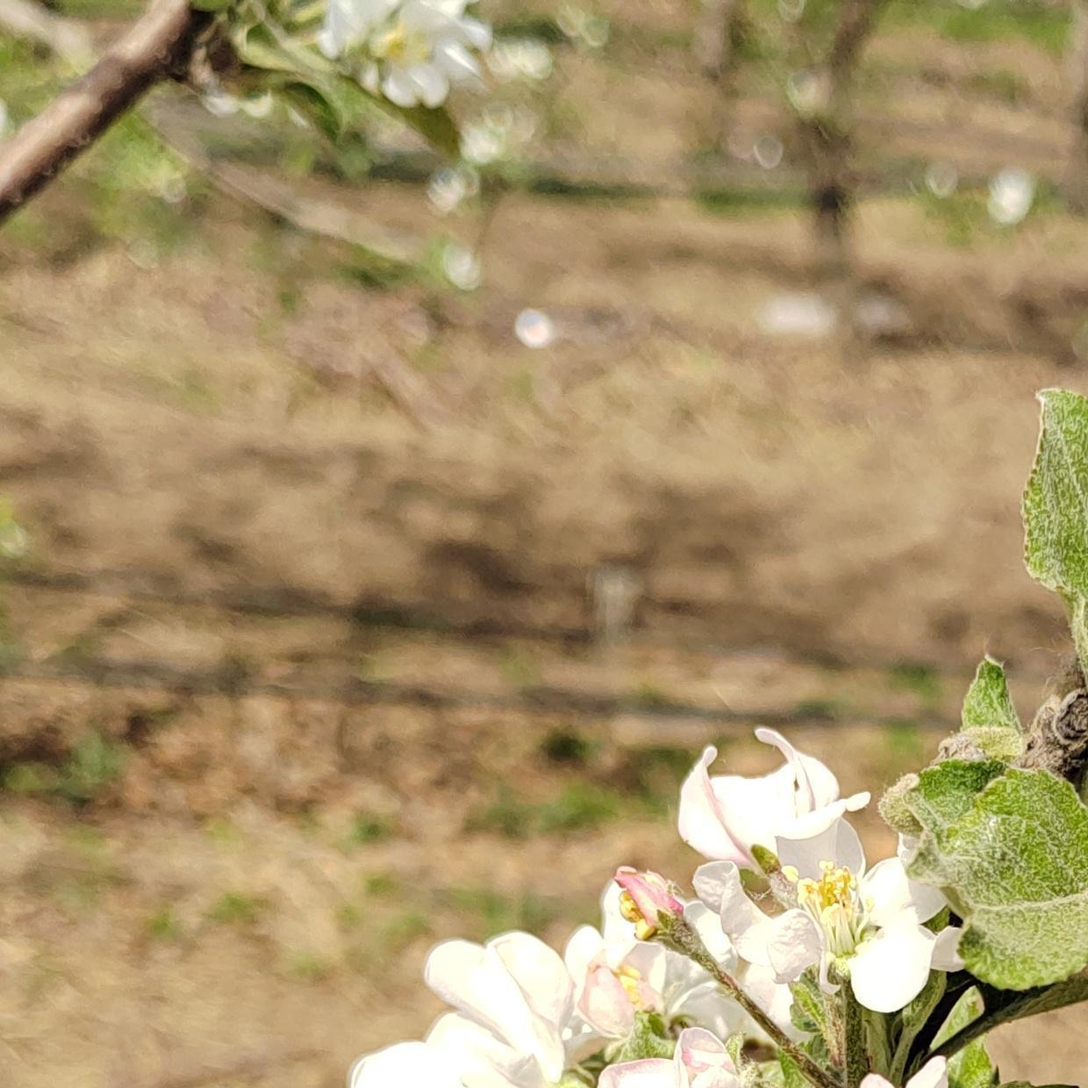apple_flower: (349, 731, 961, 1088)
